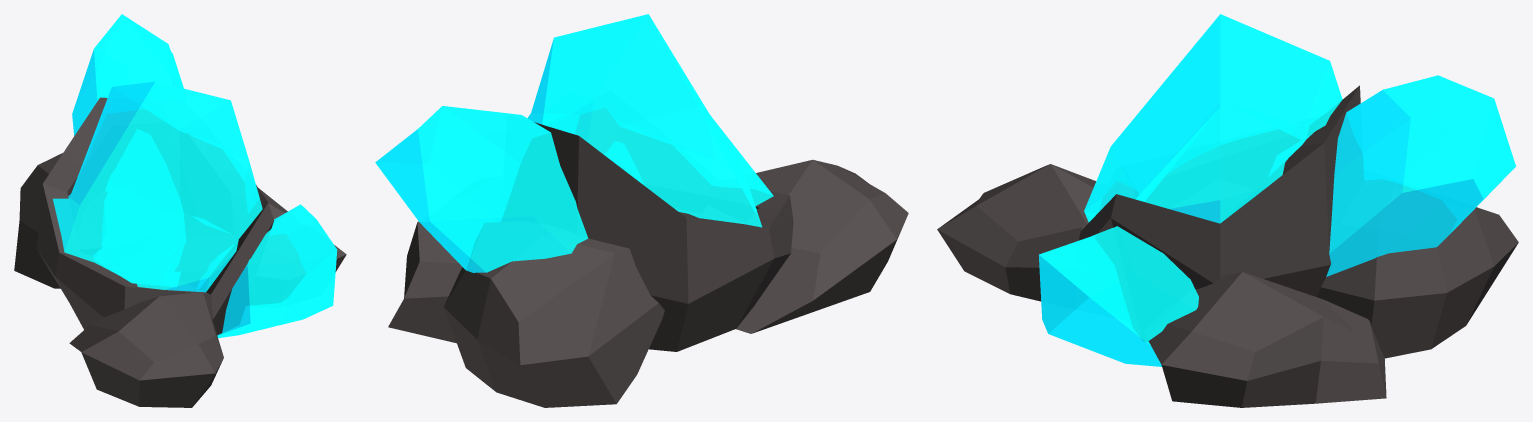
Rendered from Mdl_Ore2.fbx.
3 views of the same model, side by side, from view 1: azimuth 30°, elevation 25°; view 2: azimuth 150°, elevation 25°; view 3: azimuth 270°, elevation 25° (orthographic). The views are drawn at different scales.
Visible parts, largest first — view 1: mena002; view 2: mena002; view 3: mena002.
Boxes of the visible parts, x1,y1,x2,y2 form: mena002: (14, 14, 346, 407); mena002: (375, 14, 908, 407); mena002: (937, 14, 1518, 407).
Bounding box in the file's own units: 0.6755 × 0.5314 × 0.8888.
